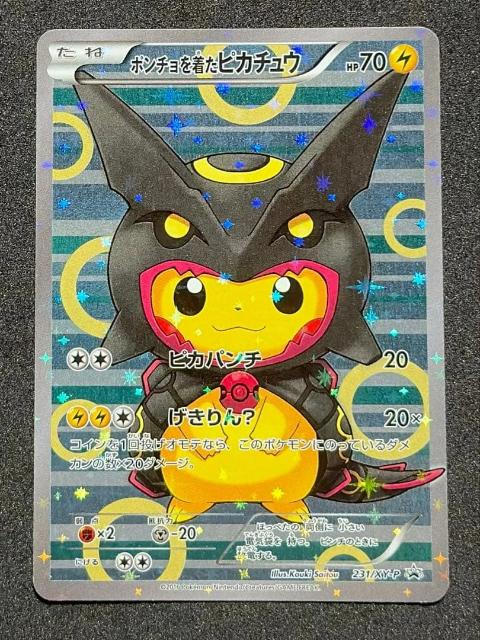Card: (26, 22, 454, 610)
Name: (126, 46, 306, 80)
